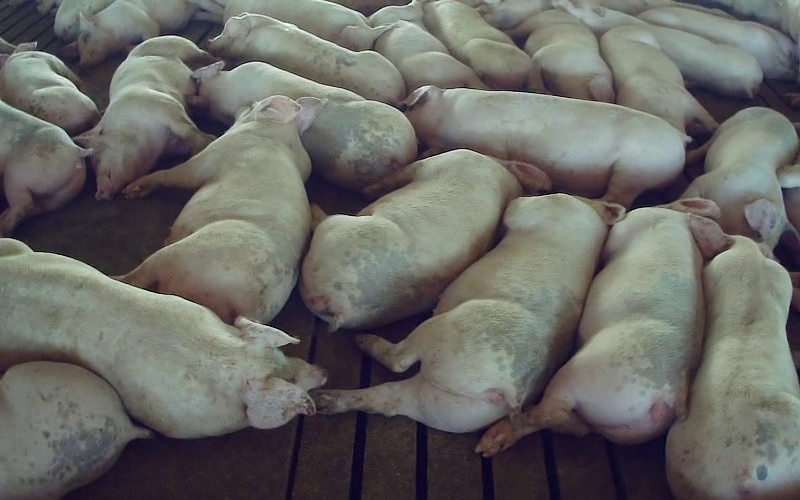pig: (318, 194, 623, 431), (478, 198, 730, 454), (120, 95, 322, 322), (668, 236, 799, 499), (194, 62, 415, 189), (75, 36, 213, 199), (0, 361, 151, 499), (209, 13, 405, 105), (682, 107, 797, 249), (600, 26, 717, 136), (638, 6, 796, 79), (369, 0, 486, 92), (64, 0, 223, 66), (423, 0, 534, 89), (507, 10, 614, 102), (224, 0, 389, 50)
